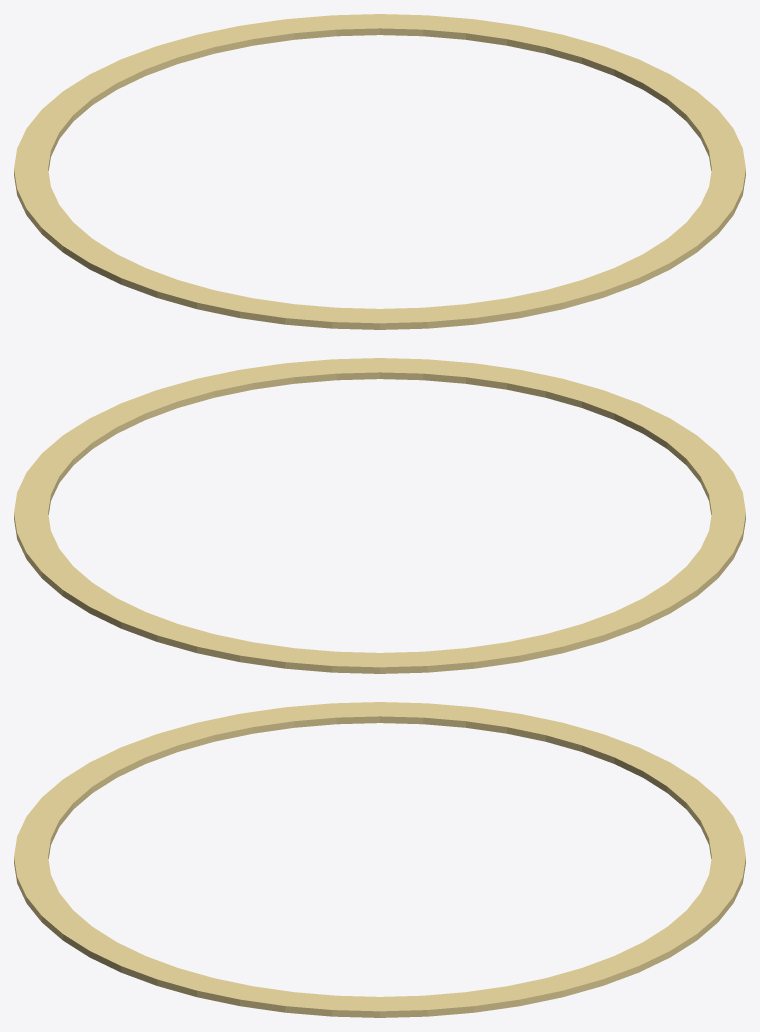
Rendered from s02-slot-target-ring.glb.
3 views of the same model, one above another, from view 1: azimuth 30°, elevation 25°; view 2: azimuth 150°, elevation 25°; view 3: azimuth 270°, elevation 25° (orthographic).
Visible parts, largest first — view 1: world; view 2: world; view 3: world.
Part boxes in pixels (x1,y1,x2,y2): world: [14, 14, 745, 329]; world: [14, 358, 745, 673]; world: [14, 702, 745, 1017].
Bounding box in the file's own units: 0.15 × 0.0015 × 0.15.
